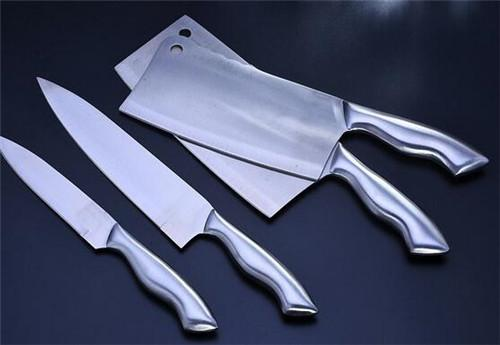knife: (2, 13, 480, 335)
